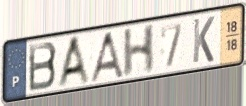7: (159, 22, 183, 69)
A: (87, 29, 126, 84), (56, 33, 93, 88)
B: (27, 40, 59, 94)
H: (122, 22, 157, 79)
K: (191, 15, 216, 66)
